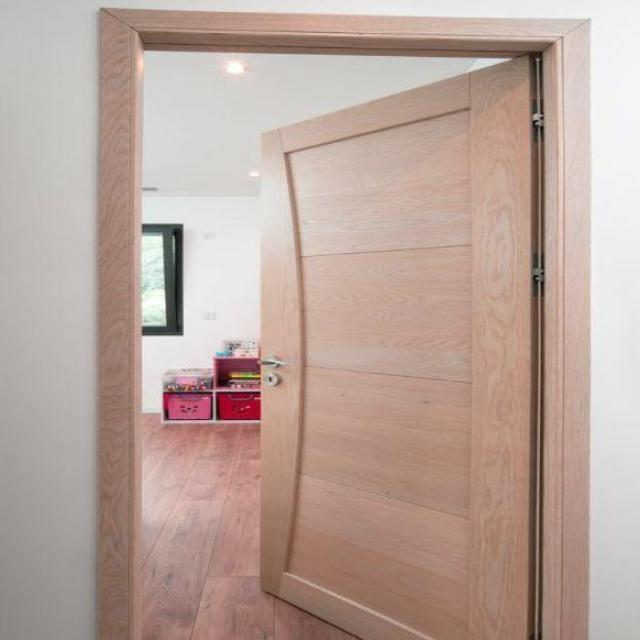door: (257, 52, 541, 638)
